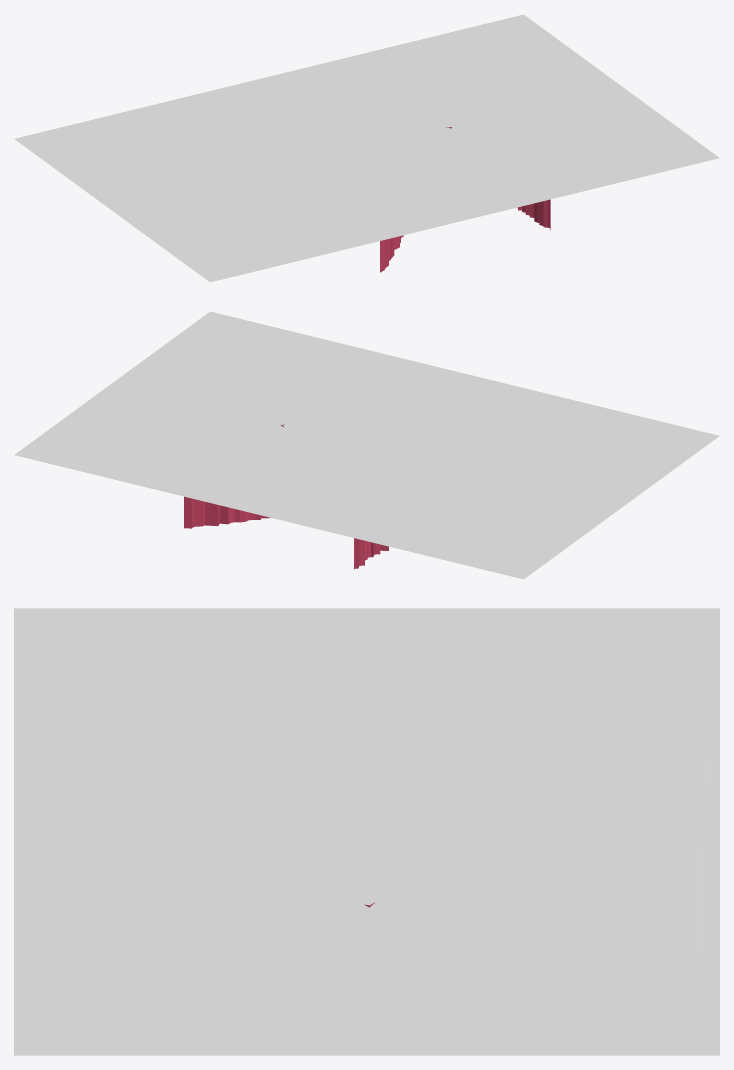
Rendered from ice4.fbx.
3 views of the same model, one above another, from view 1: azimuth 30°, elevation 25°; view 2: azimuth 150°, elevation 25°; view 3: azimuth 270°, elevation 25° (orthographic). The views are drawn at different scales.
Parts seen in each view (by area): view 1: Left, Right, Main; view 2: Right, Left, Main; view 3: Left, Right, Main.
Part boxes in pixels (x1=…): Left: x1=14, y1=97, x2=415, y2=282; Right: x1=320, y1=14, x2=719, y2=227; Main: x1=184, y1=56, x2=550, y2=272; Right: x1=14, y1=311, x2=379, y2=528; Left: x1=354, y1=394, x2=719, y2=579; Main: x1=184, y1=353, x2=548, y2=569; Left: x1=14, y1=608, x2=719, y2=830; Right: x1=14, y1=834, x2=719, y2=1055; Main: x1=14, y1=751, x2=719, y2=909.
Size of the model in its own units: 8400 by 501 by 5600.
